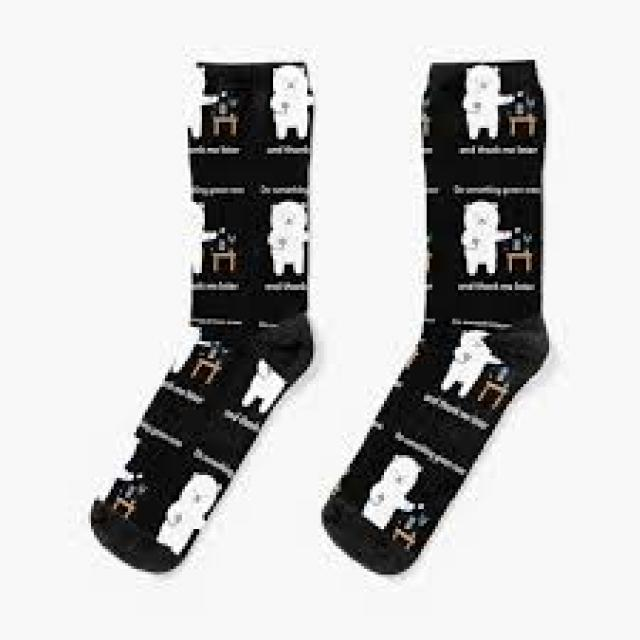Clothes -Biodegradable-: (321, 61, 551, 573), (91, 62, 313, 573)
